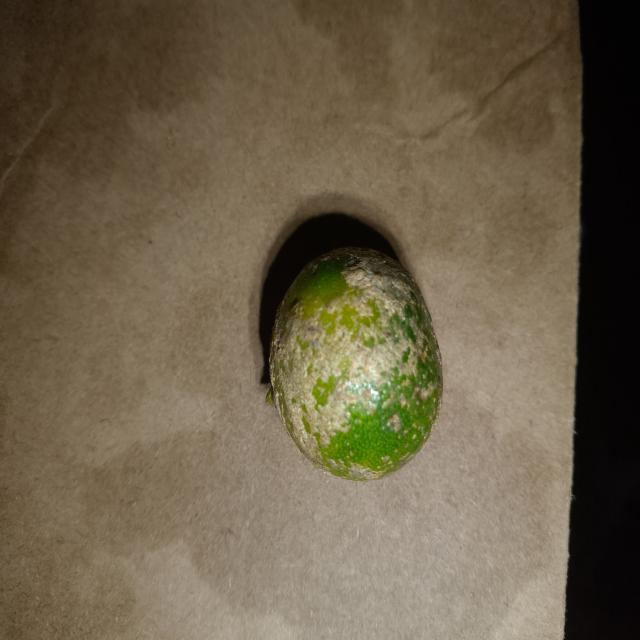thrips: (273, 248, 444, 477)
